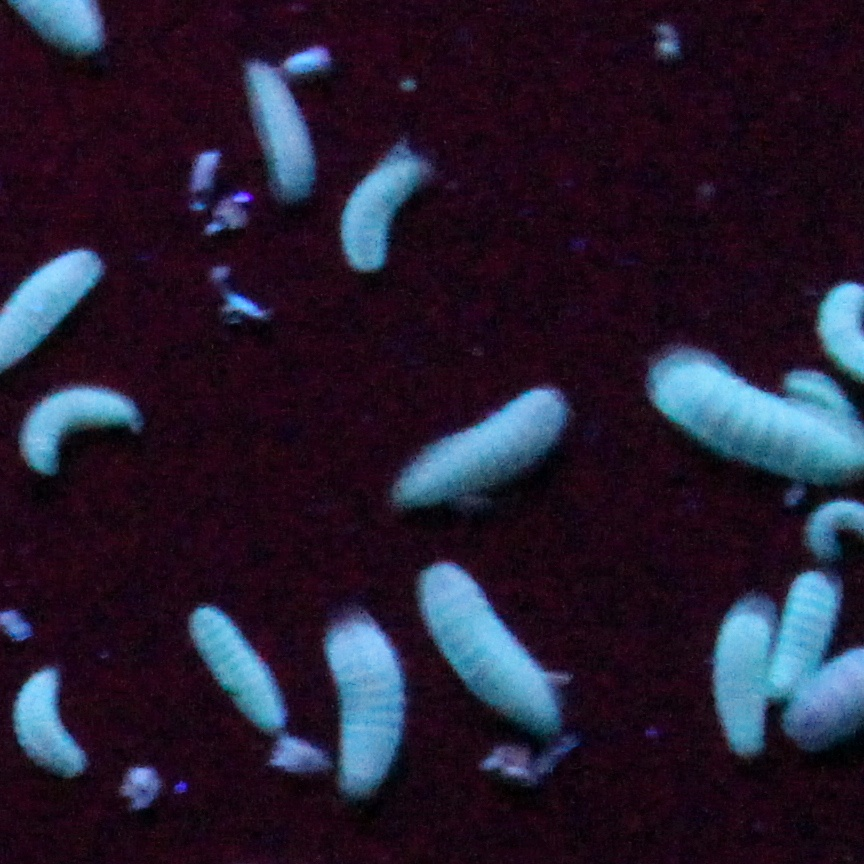larve: (408, 561, 564, 732), (392, 389, 566, 508), (0, 393, 163, 477), (186, 600, 281, 736), (323, 618, 400, 785), (243, 46, 321, 200), (712, 599, 770, 746), (354, 148, 416, 280), (10, 663, 77, 767), (777, 569, 828, 703)
